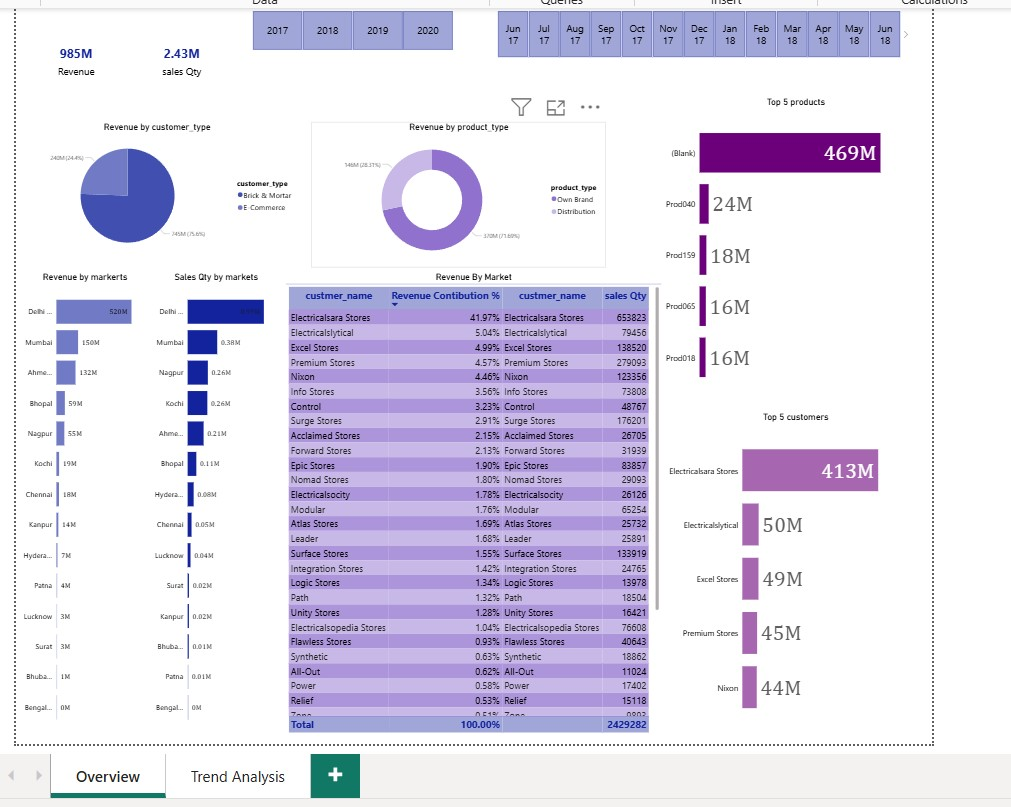

Layout of this report page (visuals, bound fields, positions):
{"tool":"powerbi","page":{"name":"Overview","canvas":[1990,1600],"ordinal":0},"visuals":[{"type":"card","fields":{"Values":["BsaeMeasures.Revenue"]},"box":[0,0,262.2,227],"z":0},{"type":"card","fields":{"Values":["BsaeMeasures.sales Qty"]},"box":[229.7,0,259.5,227],"z":1000},{"type":"barChart","title":"Revenue by markerts","fields":{"Y":["BsaeMeasures.Revenue"],"Category":["markets.markets_name"]},"box":[0,573,300,1005.4],"z":2000},{"type":"barChart","title":"Sales Qty by markets","fields":{"Y":["BsaeMeasures.sales Qty"],"Category":["markets.markets_name"]},"box":[286.5,573,300,1005.4],"z":3000},{"type":"barChart","title":"Top 5 customers","fields":{"Y":["BsaeMeasures.Revenue"],"Category":["customers.custmer_name"]},"box":[1402.7,878.4,586.5,700],"z":4000},{"type":"barChart","title":"Top 5 products","fields":{"Y":["BsaeMeasures.Revenue"],"Category":["products.product_code"]},"box":[1402.7,191.9,586.5,662.2],"z":5000},{"type":"slicer","fields":{"Values":["date.year"]},"box":[489.2,0,483.8,97.3],"z":7000},{"type":"donutChart","fields":{"Category":["products.product_type"],"Y":["BsaeMeasures.Revenue"]},"box":[640.5,245.9,643.2,318.9],"z":8000},{"type":"slicer","fields":{"Values":["date.cy_date"]},"box":[1021.6,0,924.3,113.5],"z":9000},{"type":"tableEx","title":"Revenue By Market","fields":{"Values":["customers.custmer_name","BsaeMeasures.Revenue Contibution %","customers.custmer_name","BsaeMeasures.sales Qty"]},"box":[586.5,573,816.2,1005.4],"z":10000},{"type":"pieChart","fields":{"Category":["customers.customer_type"],"Y":["BsaeMeasures.Revenue"]},"box":[0,245.9,613.5,300],"z":11000}]}

Visuals, with their boxes on the page's 1990x1600 design canvas (x1, y1, x2, y2). These are canvas units, not pixel positions in the 1011x807 screenshot, which may show the page scaled, cropped or inside an application window:
card - BsaeMeasures.Revenue: [left=0, top=0, right=262, bottom=227]
card - BsaeMeasures.sales Qty: [left=230, top=0, right=489, bottom=227]
"Revenue by markerts" barChart: [left=0, top=573, right=300, bottom=1578]
"Sales Qty by markets" barChart: [left=286, top=573, right=586, bottom=1578]
"Top 5 customers" barChart: [left=1403, top=878, right=1989, bottom=1578]
"Top 5 products" barChart: [left=1403, top=192, right=1989, bottom=854]
slicer - date.year: [left=489, top=0, right=973, bottom=97]
donutChart - products.product_type x BsaeMeasures.Revenue: [left=640, top=246, right=1284, bottom=565]
slicer - date.cy_date: [left=1022, top=0, right=1946, bottom=114]
"Revenue By Market" tableEx: [left=586, top=573, right=1403, bottom=1578]
pieChart - customers.customer_type x BsaeMeasures.Revenue: [left=0, top=246, right=614, bottom=546]
